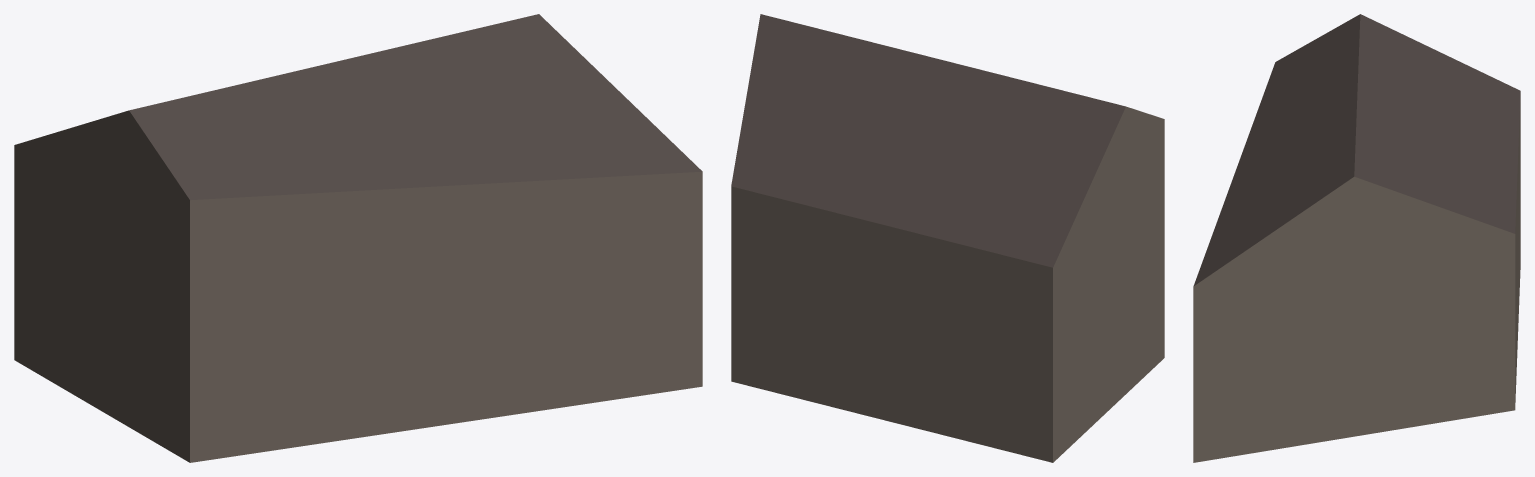
3 views of the same model, side by side, from view 1: azimuth 30°, elevation 25°; view 2: azimuth 150°, elevation 25°; view 3: azimuth 270°, elevation 25° (orthographic). The views are drawn at different scales.
Visible parts, largest first — view 1: HP-w1512359820; view 2: HP-w1512359820; view 3: HP-w1512359820.
Part boxes in pixels (bbox=[...]): HP-w1512359820: bbox=[14, 14, 702, 462]; HP-w1512359820: bbox=[731, 14, 1164, 462]; HP-w1512359820: bbox=[1193, 14, 1520, 462].
Size of the model in its own units: 14.29 by 8.85 by 10.09.
